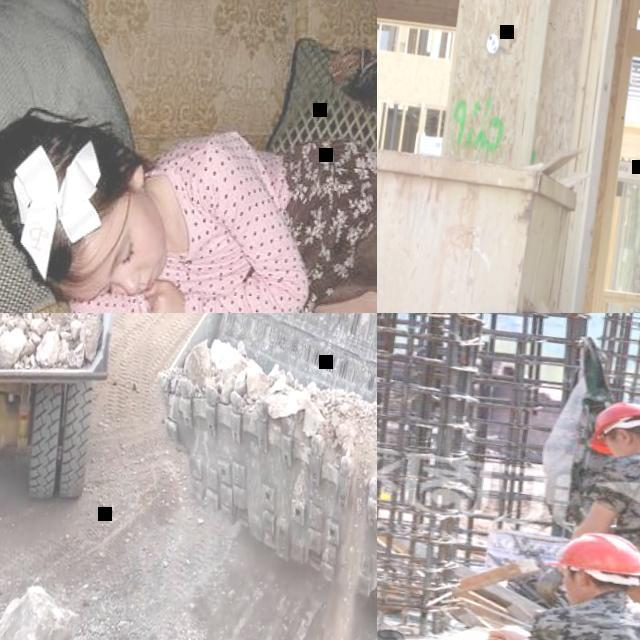Weapon: (6, 50, 376, 318)
objects: (578, 379, 640, 640)
